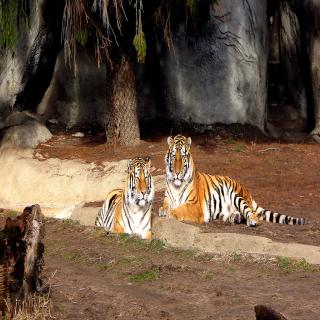Tiger: (156, 135, 304, 225), (92, 156, 155, 245)
